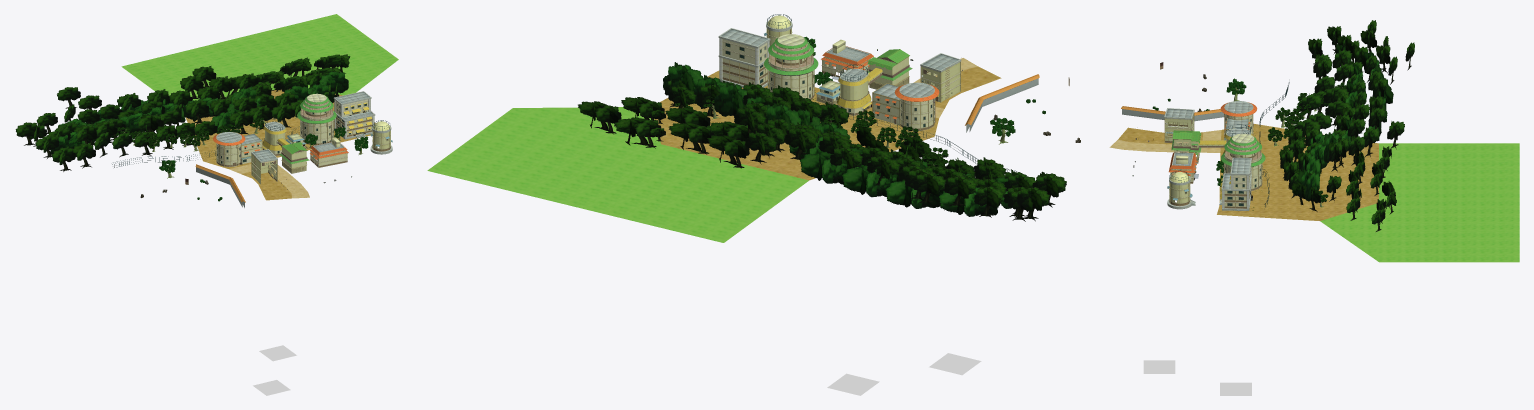
The picture shows the model from 3 angles, left to right: view 1: azimuth 30°, elevation 25°; view 2: azimuth 150°, elevation 25°; view 3: azimuth 270°, elevation 25°; orthographic projection. The views are drawn at different scales.
Visible parts, largest first — view 1: ki006_06_001, sa00dflo000_001, sa00dobj01_001, ki006_08_001, ha005_20_001, sa00dobj03_001, Quad_d, sa00eflo00_001, sa00dobj02_001, sa00cobj10_001; view 2: sa00dflo000_001, ki006_06_001, sa00dobj01_001, ki006_08_001, sa00dobj03_001, ha005_20_001, Quad_d, sa00dobj02_001, sa00cobj10_001; view 3: sa00dflo000_001, ki006_06_001, sa00dobj01_001, ki006_08_001, ha005_20_001, sa00dobj03_001, Quad_d, sa00eflo00_001, sa00dobj02_001, sa00cobj10_001.
Boxes of the visible parts, bbox=[...] form: ki006_06_001: bbox=[15, 54, 350, 171]; sa00dflo000_001: bbox=[121, 14, 398, 200]; sa00dobj01_001: bbox=[216, 91, 392, 184]; ki006_08_001: bbox=[50, 71, 348, 153]; ha005_20_001: bbox=[115, 106, 278, 148]; sa00dobj03_001: bbox=[252, 121, 390, 183]; Quad_d: bbox=[253, 345, 296, 395]; sa00eflo00_001: bbox=[229, 164, 309, 198]; sa00dobj02_001: bbox=[213, 96, 336, 145]; sa00cobj10_001: bbox=[195, 164, 245, 207]; sa00dflo000_001: bbox=[427, 66, 1001, 242]; ki006_06_001: bbox=[578, 79, 1066, 221]; sa00dobj01_001: bbox=[718, 20, 961, 130]; ki006_08_001: bbox=[663, 62, 1011, 216]; sa00dobj03_001: bbox=[766, 15, 960, 101]; ha005_20_001: bbox=[675, 97, 948, 167]; Quad_d: bbox=[827, 353, 981, 395]; sa00dobj02_001: bbox=[764, 38, 939, 101]; sa00cobj10_001: bbox=[965, 74, 1039, 132]; sa00dflo000_001: bbox=[1118, 124, 1519, 262]; ki006_06_001: bbox=[1279, 20, 1414, 231]; sa00dobj01_001: bbox=[1164, 101, 1262, 210]; ki006_08_001: bbox=[1298, 44, 1393, 201]; ha005_20_001: bbox=[1267, 82, 1346, 202]; sa00dobj03_001: bbox=[1165, 114, 1251, 200]; Quad_d: bbox=[1143, 360, 1251, 395]; sa00eflo00_001: bbox=[1109, 130, 1221, 152]; sa00dobj02_001: bbox=[1220, 102, 1265, 166]; sa00cobj10_001: bbox=[1121, 106, 1223, 121].
Size of the model in its own units: 268 by 161 by 219.
Materials: 29 (29 with a texture image).
